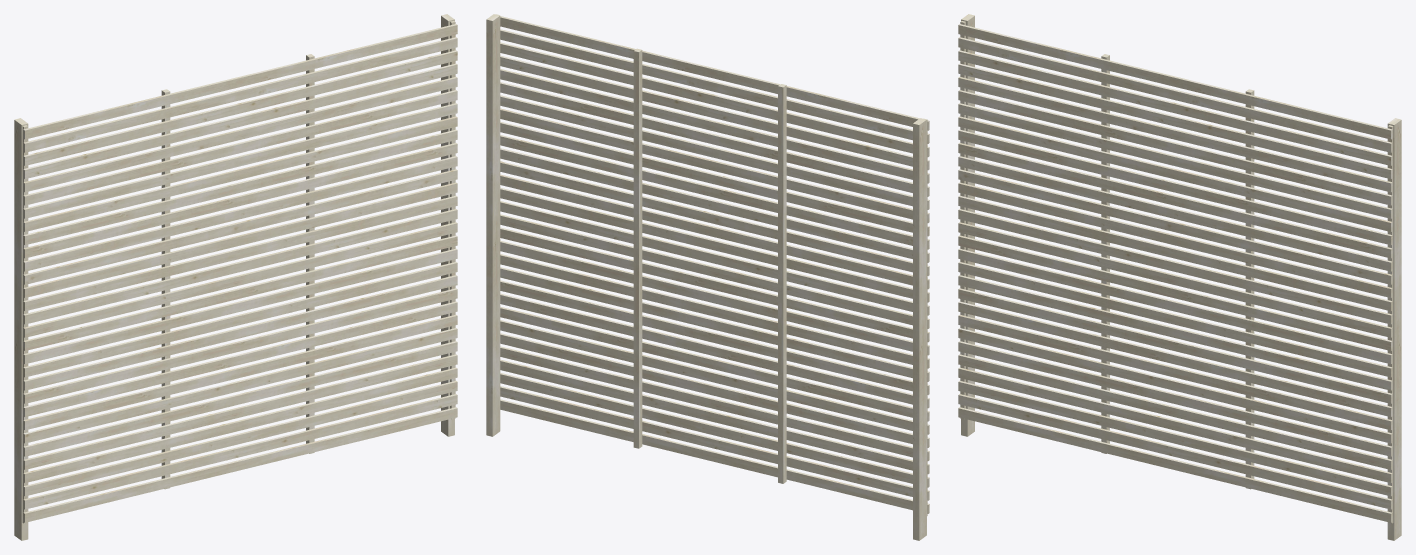
Rendered from EAdesignunitborder_h1835-w1999_whitepine.fbx.
3 views of the same model, side by side, from view 1: azimuth 30°, elevation 25°; view 2: azimuth 150°, elevation 25°; view 3: azimuth 330°, elevation 25° (orthographic).
Visible parts, largest first — view 1: EAdesignunitborder_h1835-w1999_whitepine; view 2: EAdesignunitborder_h1835-w1999_whitepine; view 3: EAdesignunitborder_h1835-w1999_whitepine.
Boxes of the visible parts, left/top/right/bottom form: EAdesignunitborder_h1835-w1999_whitepine: left=14, top=14, right=457, bottom=540; EAdesignunitborder_h1835-w1999_whitepine: left=486, top=14, right=929, bottom=540; EAdesignunitborder_h1835-w1999_whitepine: left=958, top=14, right=1401, bottom=540.
Bounding box in the file's own units: 200 × 183 × 8.4.
1 material, 1 textured.
